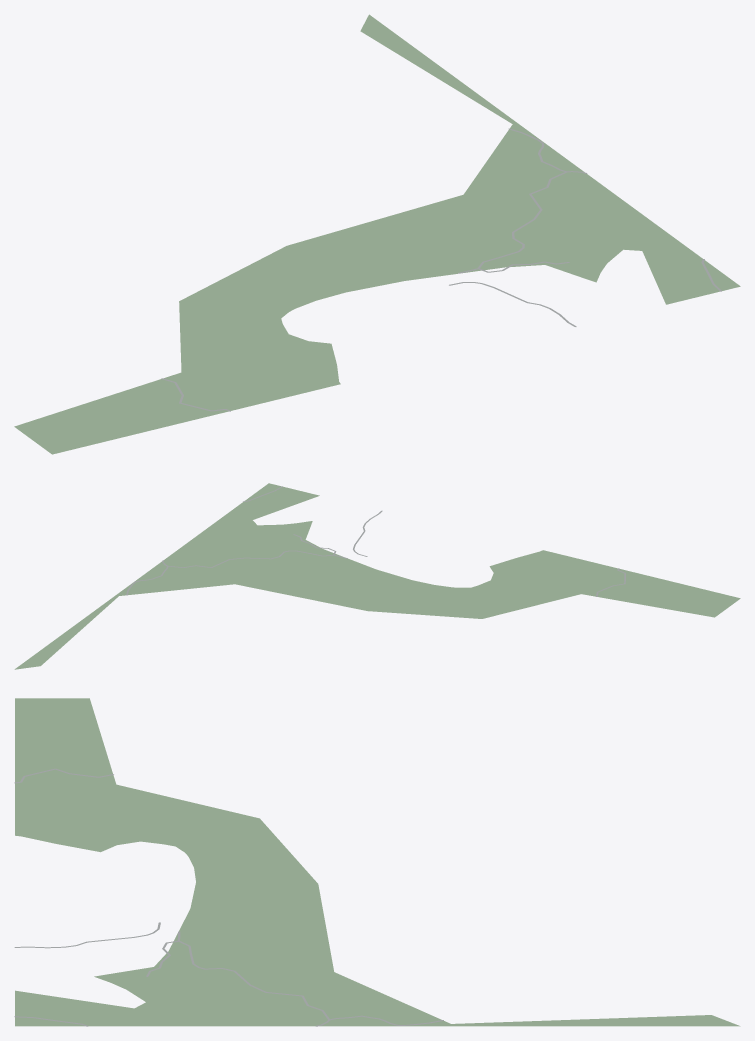
The model's file is 11_6-known-fine.glb.
3 views of the same model, one above another, from view 1: azimuth 30°, elevation 25°; view 2: azimuth 150°, elevation 25°; view 3: azimuth 270°, elevation 25° (orthographic). The views are drawn at different scales.
Bounding box in the file's own units: 1001 × 0.1 × 937.
